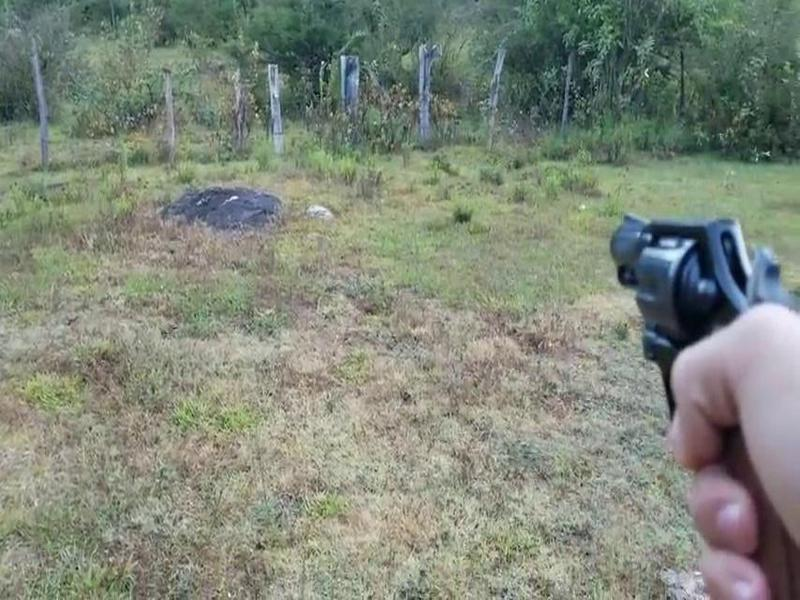Revolver: (597, 194, 780, 442)
